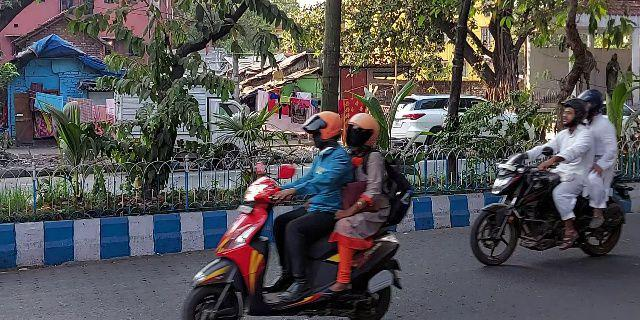Motorbike: (177, 110, 408, 320), (467, 86, 634, 267)
